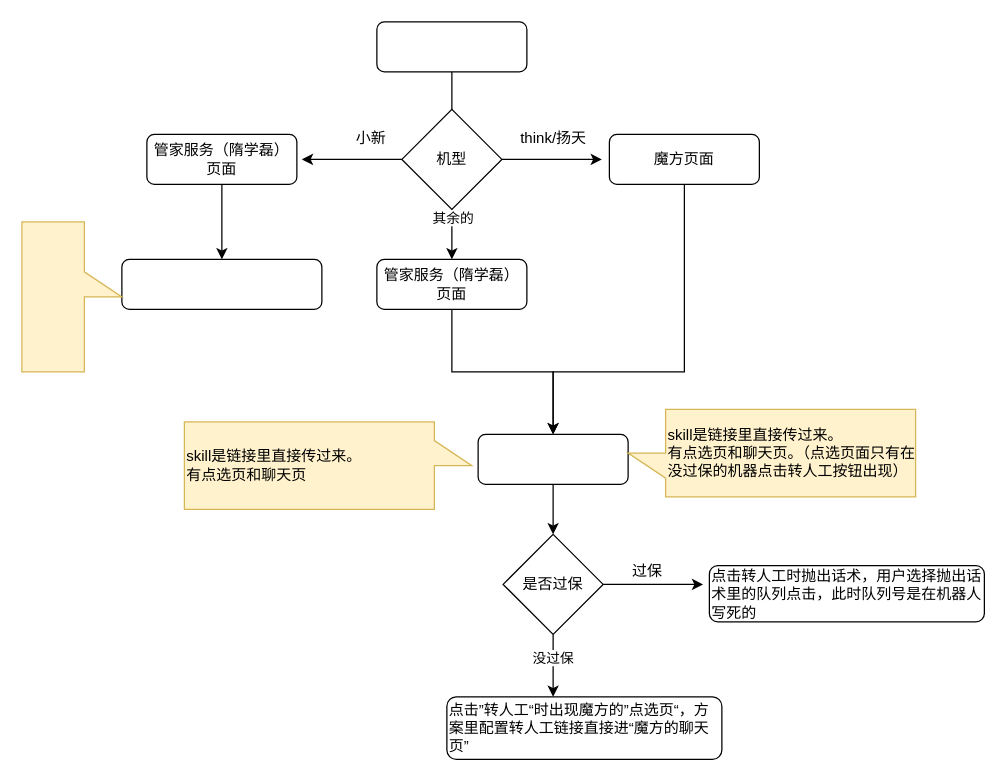
The diagram is 1006 pixels wide and 781 high, and some of its shapes have lost their labels. Each missing label, with the box of its shape:
skill是在机器人页面写死的。只有直接转人工的页面: (21, 221, 122, 372)
我的客服: (376, 21, 527, 72)
机器人小新页面 https://robotgj.lenovo.com.cn: (121, 258, 322, 309)
机器人管家页面: (477, 433, 628, 484)
